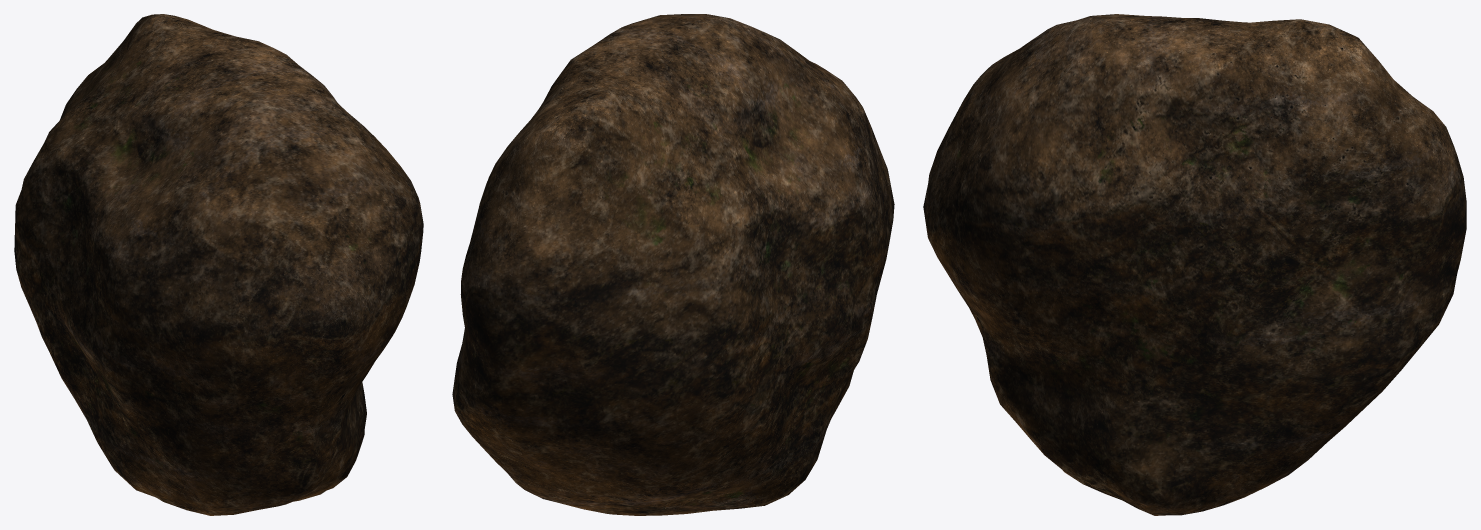
Rendered from SM_TI_Rock_7.fbx.
3 renders of one model, left to right at view 1: azimuth 30°, elevation 25°; view 2: azimuth 150°, elevation 25°; view 3: azimuth 270°, elevation 25°, orthographic. The views are drawn at different scales.
Parts seen in each view (by area): view 1: SM_TI_Rock_7; view 2: SM_TI_Rock_7; view 3: SM_TI_Rock_7.
Part boxes in pixels (<box>): SM_TI_Rock_7: <box>14,14,423,515</box>; SM_TI_Rock_7: <box>452,14,894,515</box>; SM_TI_Rock_7: <box>923,14,1466,515</box>.
Bounding box in the file's own units: 21.17 × 33.27 × 30.95.
